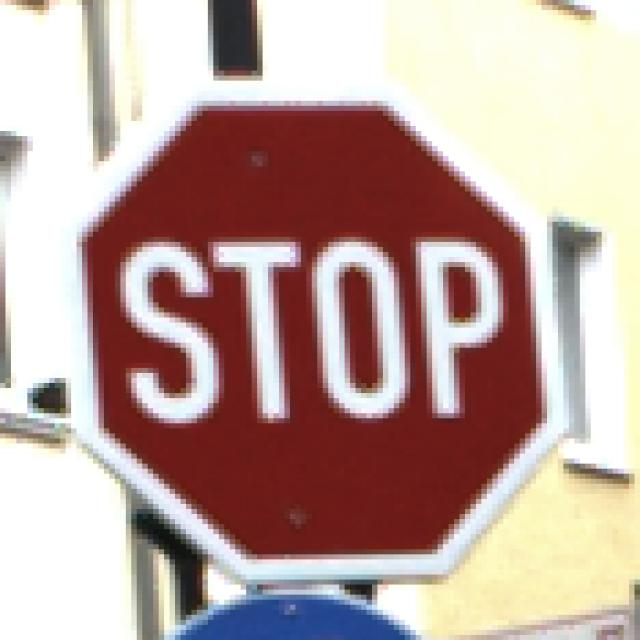STOP: (56, 57, 581, 586)
